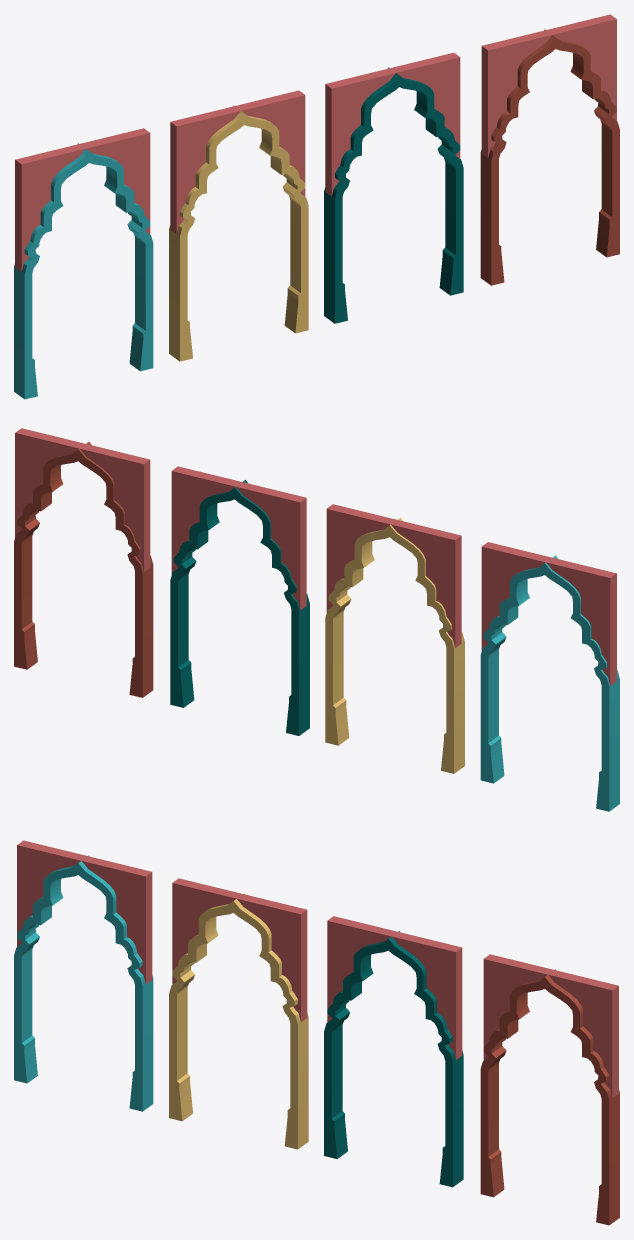
File: colunas.fbx
3 renders of one model, top to bottom at view 1: azimuth 30°, elevation 25°; view 2: azimuth 150°, elevation 25°; view 3: azimuth 330°, elevation 25°, orthographic.
Visible parts, largest first — view 1: polySurface5, polySurface14, polySurface15, polySurface16; view 2: polySurface5, polySurface15, polySurface16, polySurface14; view 3: polySurface5, polySurface16, polySurface14, polySurface15.
Part boxes in pixels (x1=…): polySurface5: x1=169, y1=90, x2=308, y2=361; polySurface14: x1=480, y1=14, x2=619, y2=285; polySurface15: x1=324, y1=52, x2=463, y2=323; polySurface16: x1=14, y1=128, x2=153, y2=399; polySurface5: x1=325, y1=504, x2=464, y2=773; polySurface15: x1=170, y1=466, x2=309, y2=735; polySurface16: x1=480, y1=542, x2=619, y2=811; polySurface14: x1=14, y1=428, x2=153, y2=697; polySurface5: x1=169, y1=878, x2=308, y2=1149; polySurface16: x1=14, y1=840, x2=153, y2=1111; polySurface14: x1=480, y1=954, x2=619, y2=1225; polySurface15: x1=324, y1=916, x2=463, y2=1187.
Size of the model in its own units: 25.04 by 9.36 by 0.7811.
5 materials, 5 textured.
